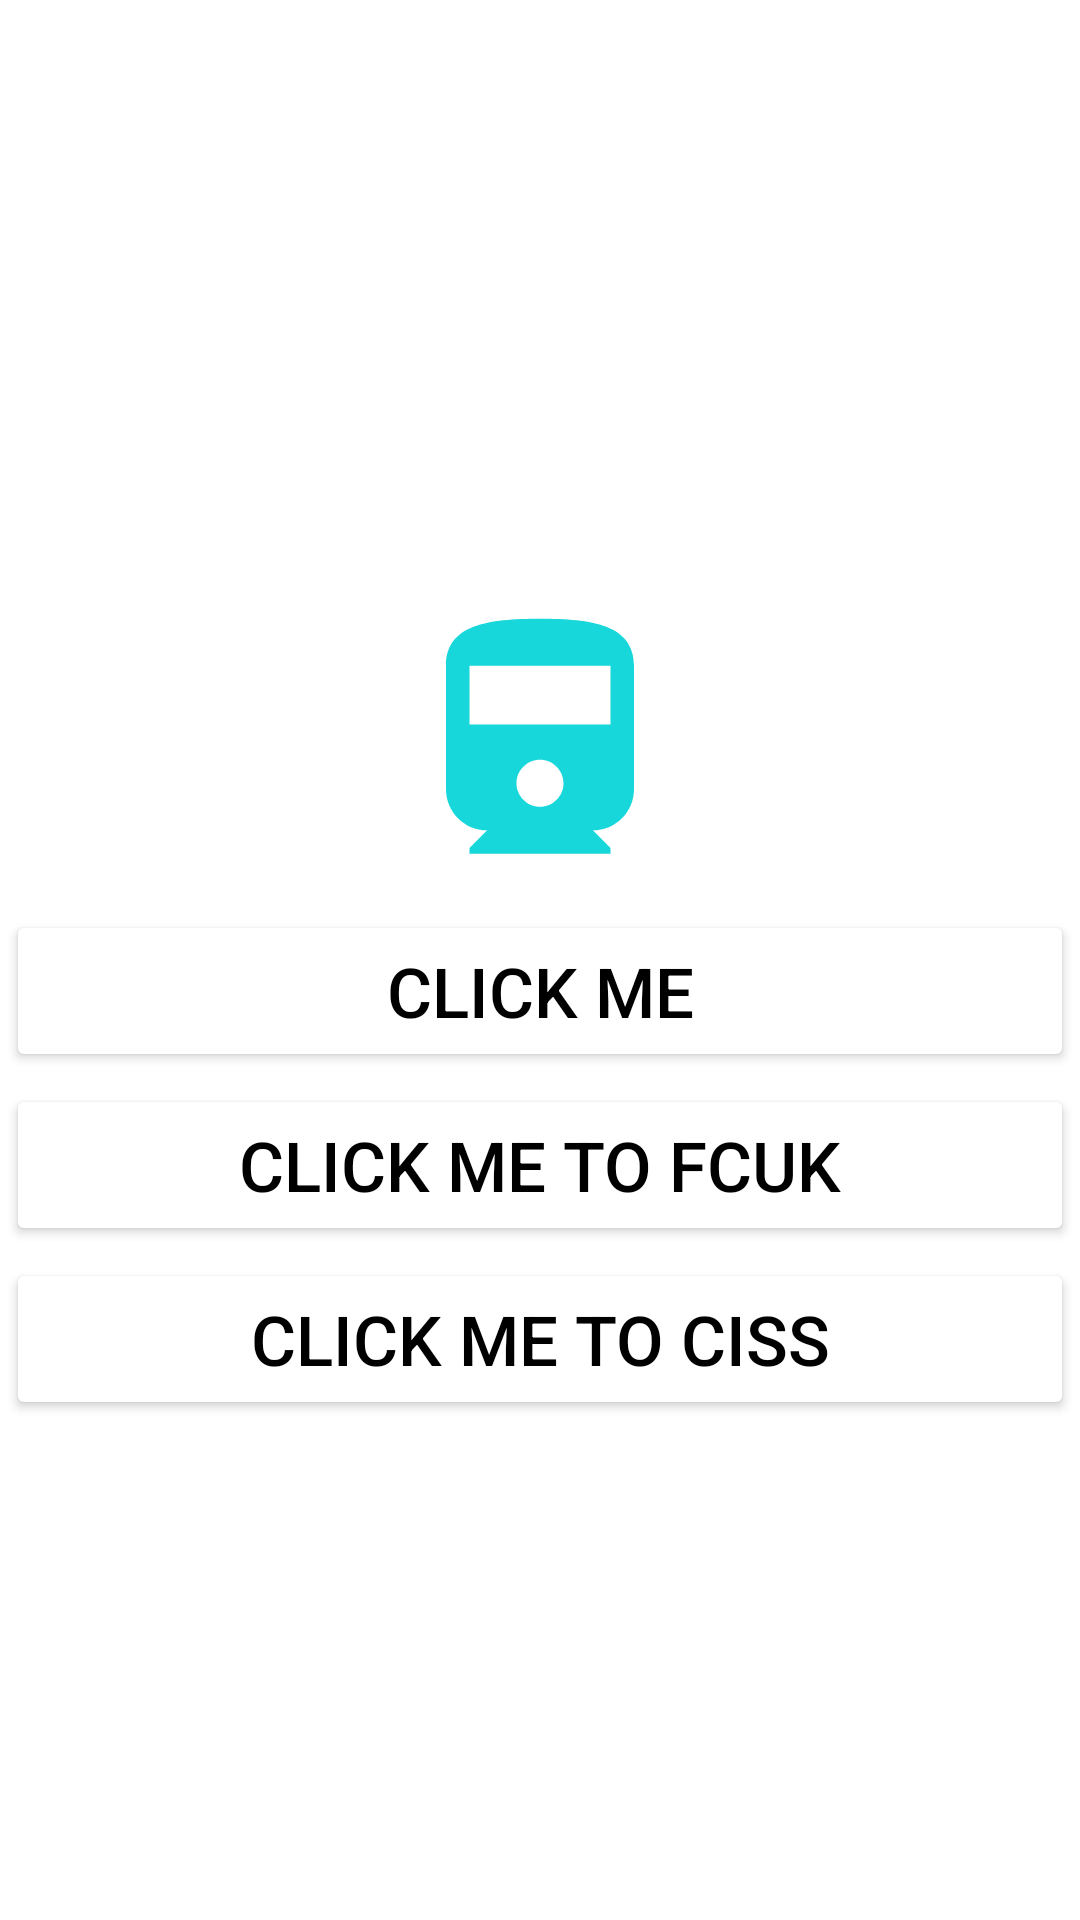

Icon click points for this 1080*1920 phone screenshot, format (x=x, y=y):
directions railway: (x=540, y=736)
